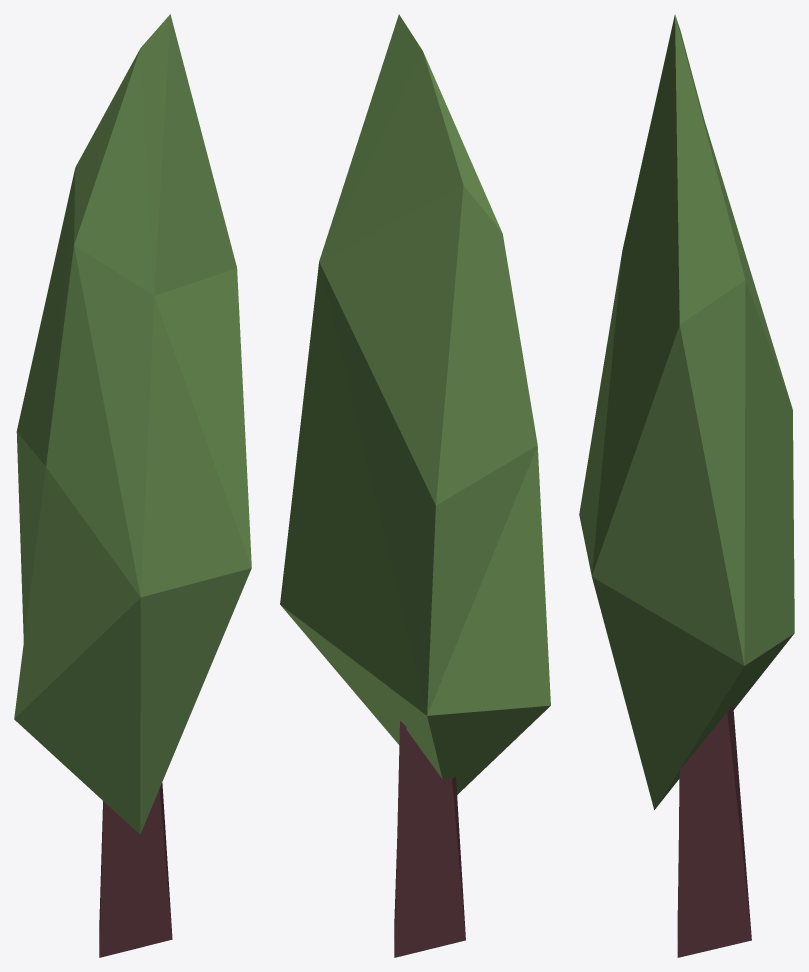
The model's file is long_tree.fbx.
3 views of the same model, side by side, from view 1: azimuth 30°, elevation 25°; view 2: azimuth 150°, elevation 25°; view 3: azimuth 270°, elevation 25° (orthographic). The views are drawn at different scales.
Visible parts, largest first — view 1: tree.005; view 2: tree.005; view 3: tree.005.
Part boxes in pixels (box(x1,y1,x2,y2)): tree.005: box(14, 14, 251, 957); tree.005: box(280, 14, 550, 957); tree.005: box(579, 14, 794, 957).
Bounding box in the file's own units: 60.49 × 221 × 45.72.
